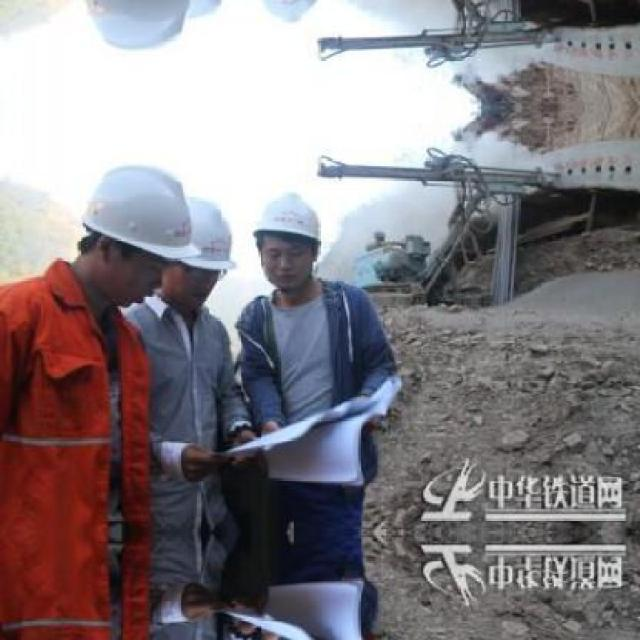helmet: (82, 166, 201, 260), (248, 192, 325, 244), (180, 194, 234, 267)
